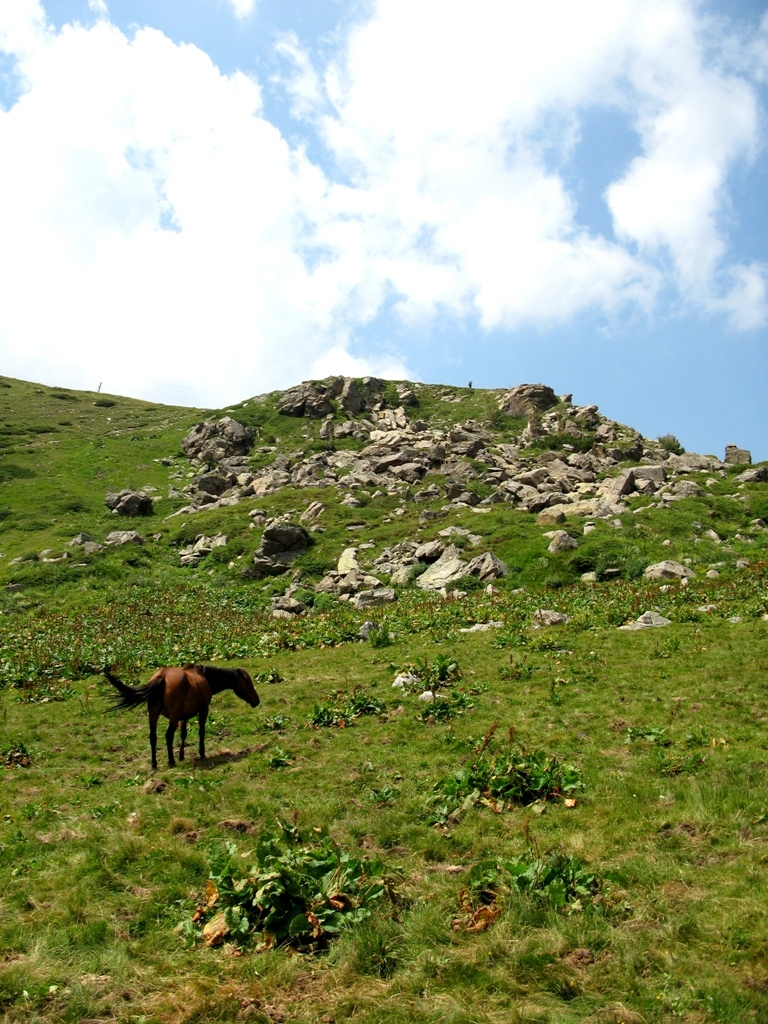horse: (105, 657, 264, 775)
